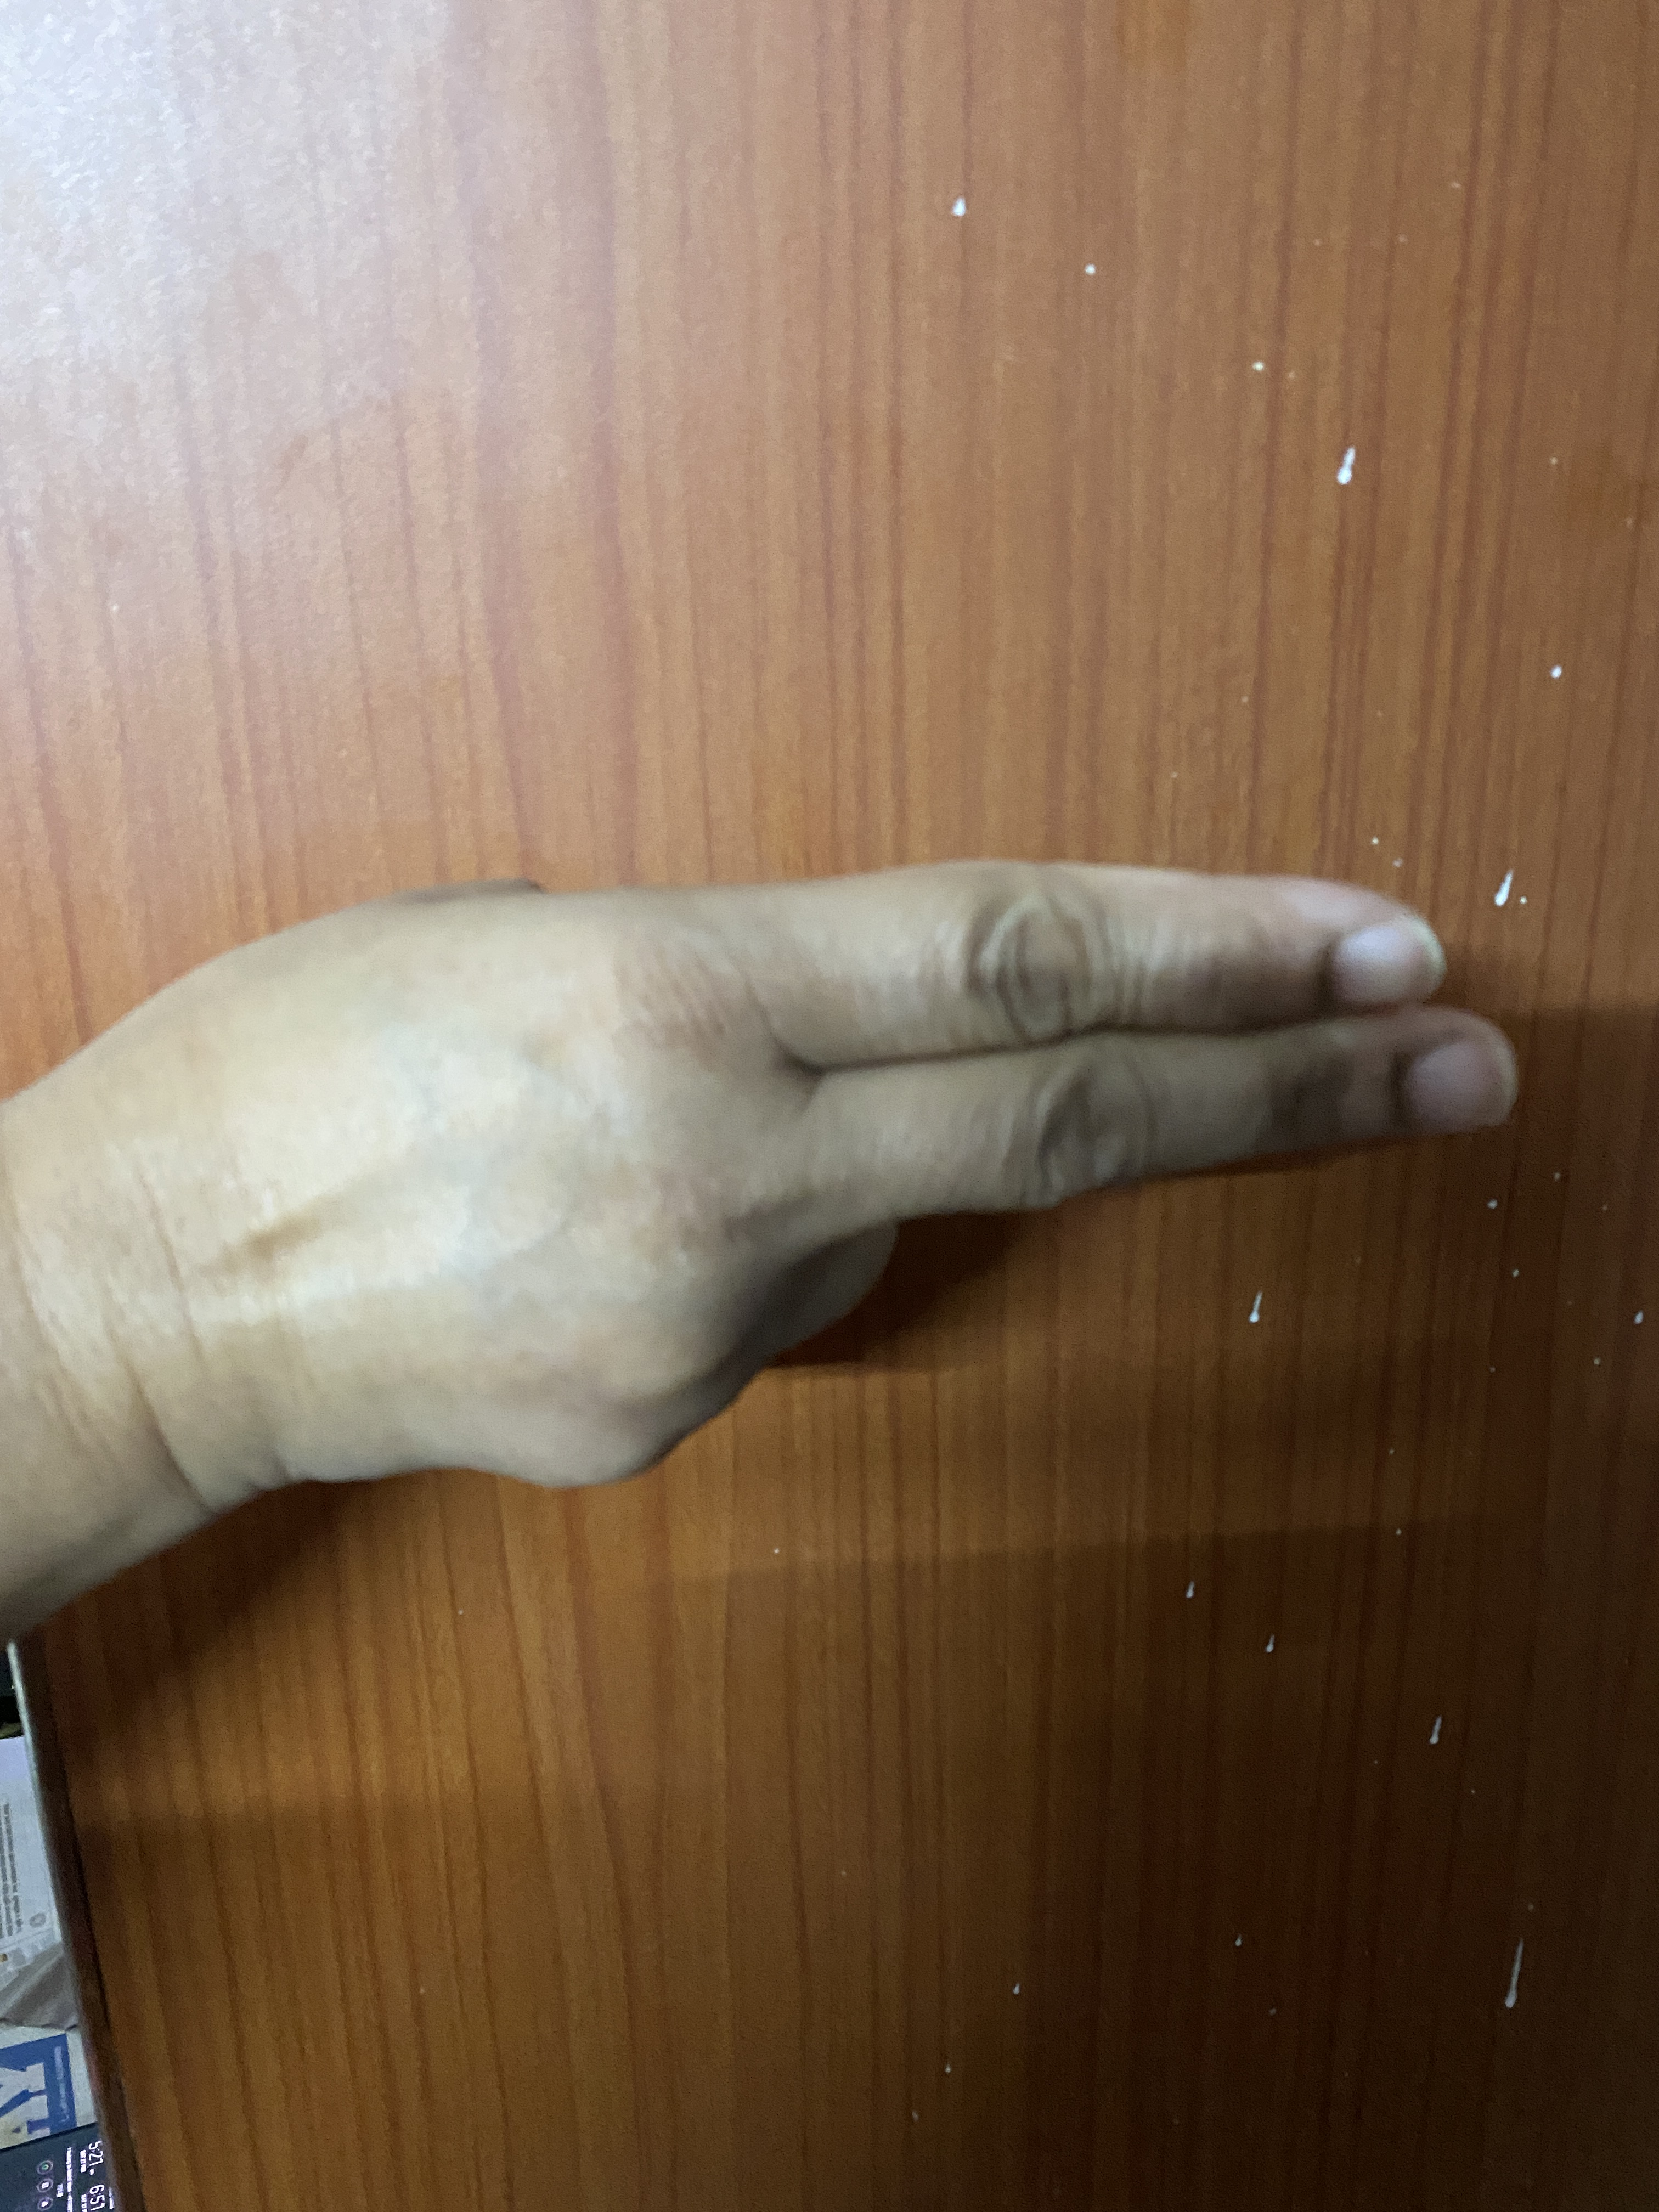left: (0, 702, 1554, 1684)
